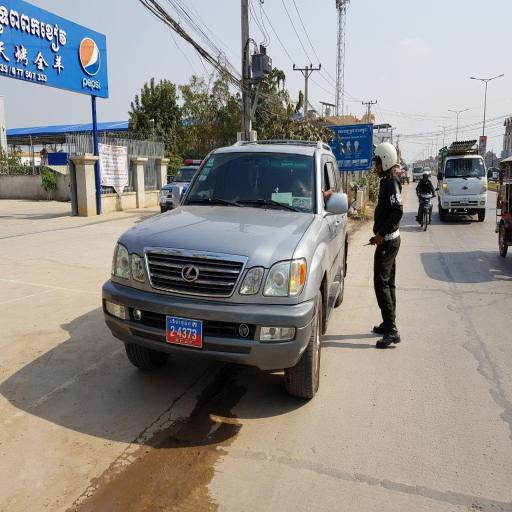Plate Number: (167, 315, 204, 350)
